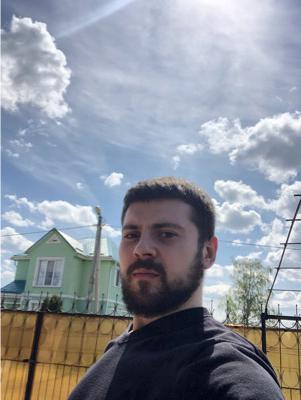without_mask: (118, 214, 189, 319)
